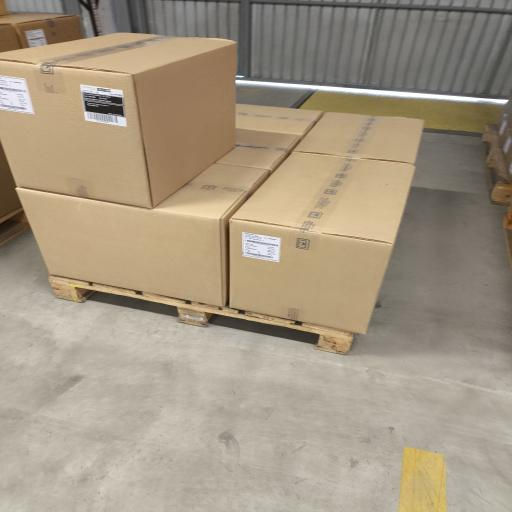pallet: (49, 276, 353, 354), (482, 125, 511, 205), (0, 208, 29, 245), (504, 208, 511, 267)
